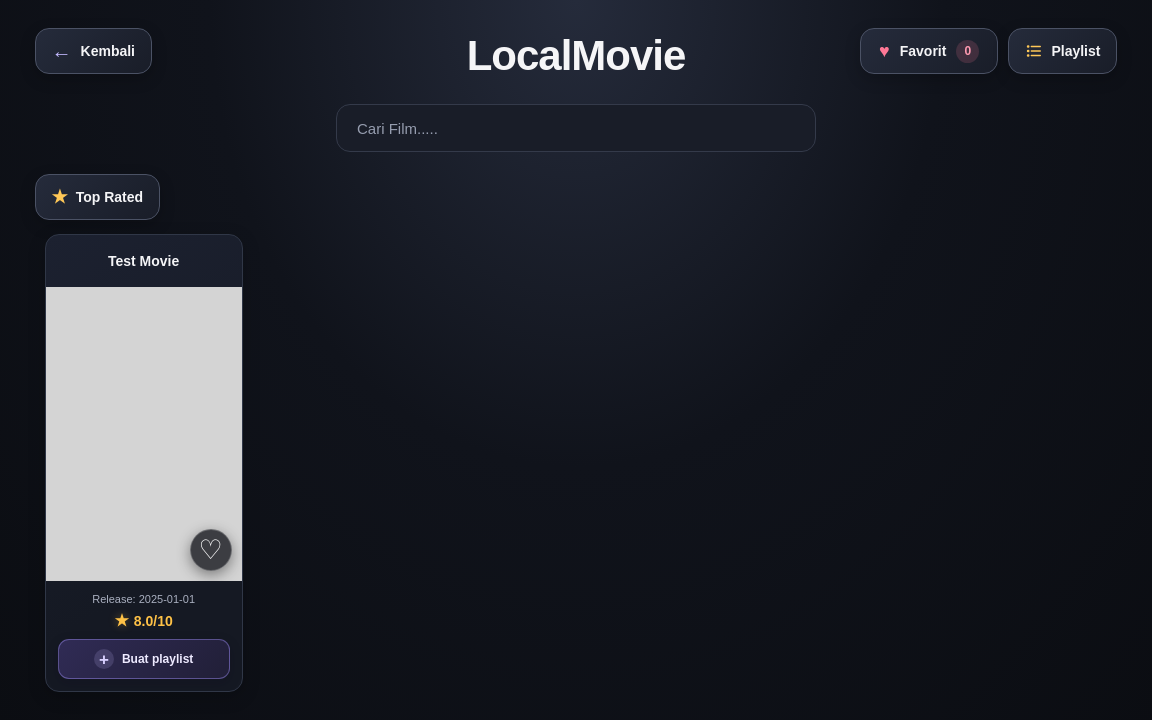
Scenario: shows a notification when a movie is added to and removed from favorites
Step 1. Click the button titled "Tambahkan Favorit" → x=211, y=550, box [190,529,232,571]
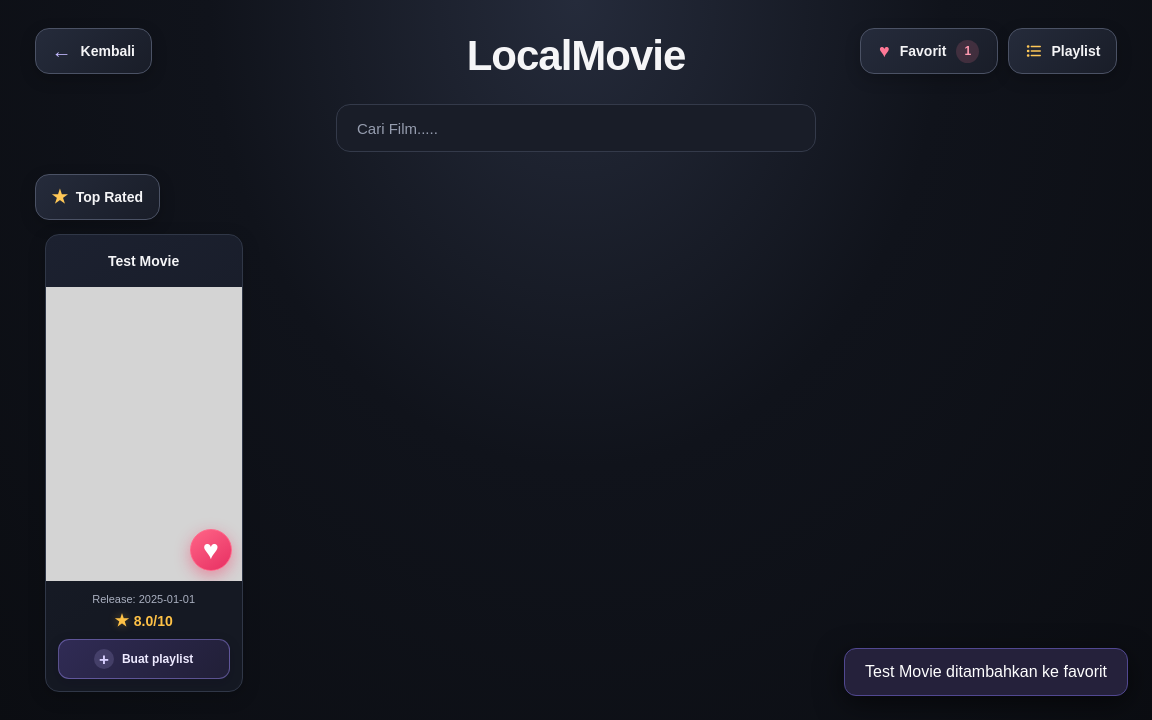
Now the message reads "Test Movie ditambahkan ke favorit", box [865,663,1107,680]
Step 2. Click the button titled "Hapus Favorit" → x=211, y=550, box [190,529,232,571]
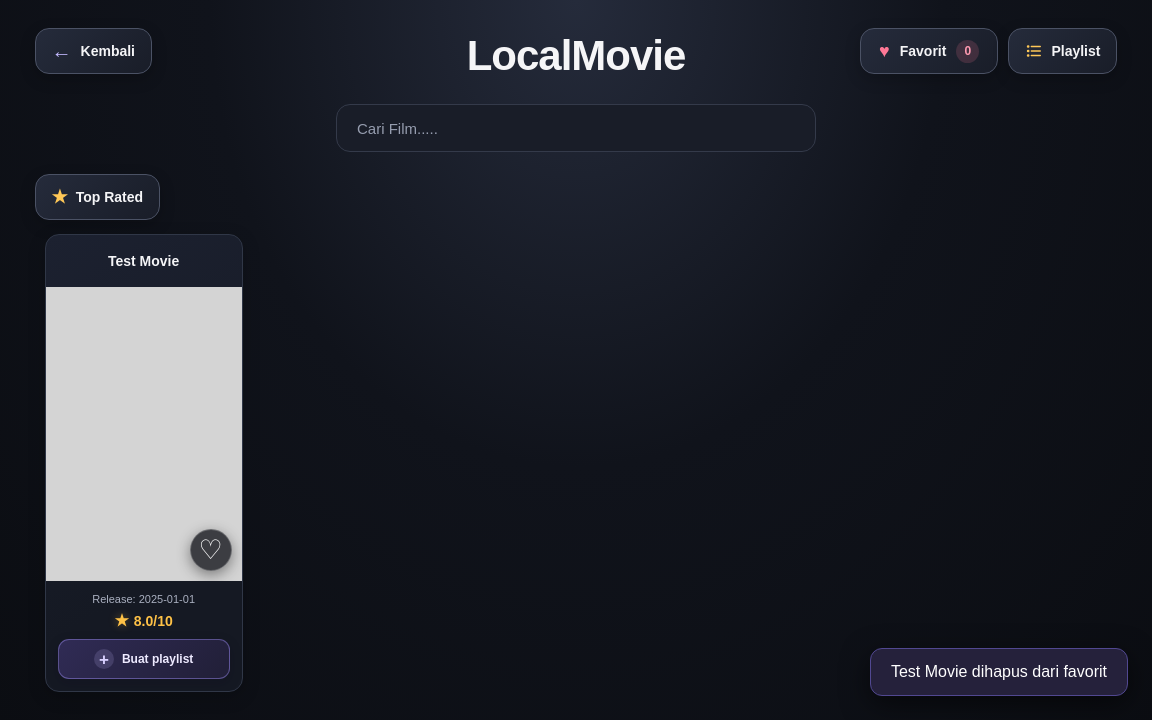
Now the message reads "Test Movie dihapus dari favorit", box [891,663,1107,680]
